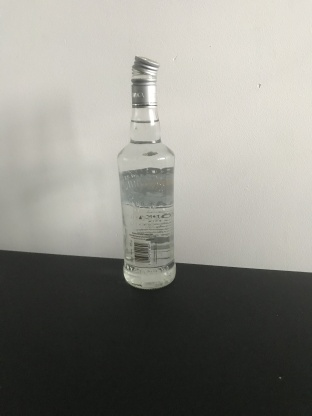nakretka: (129, 52, 160, 108)
